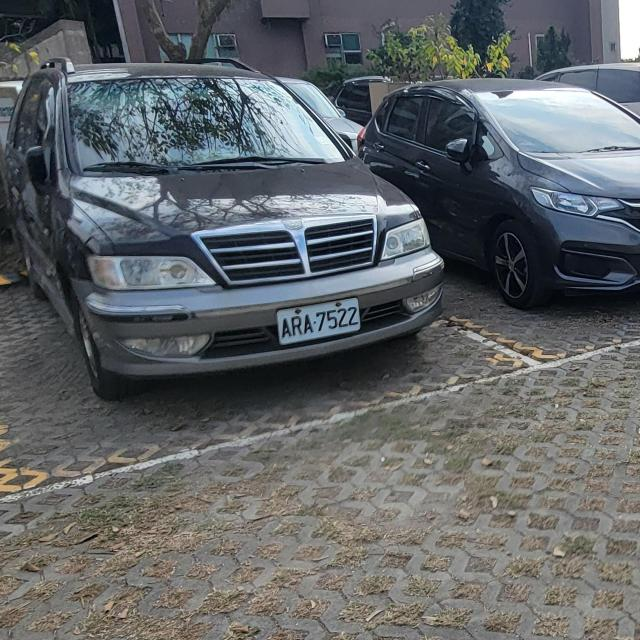W: (272, 296, 363, 347)
